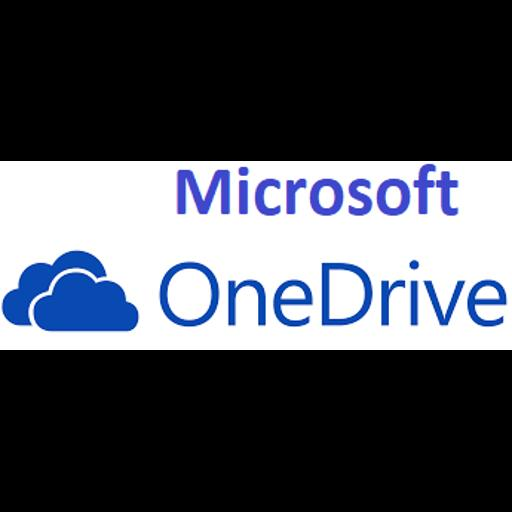Microsoft OneDrive: (0, 161, 512, 350)
